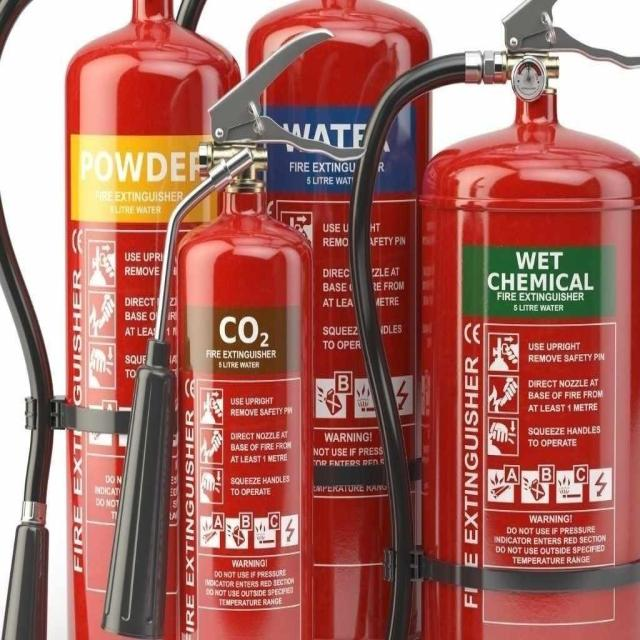fire_extinguisher: (343, 0, 639, 639), (98, 28, 368, 639), (0, 0, 249, 639), (239, 0, 439, 639)
